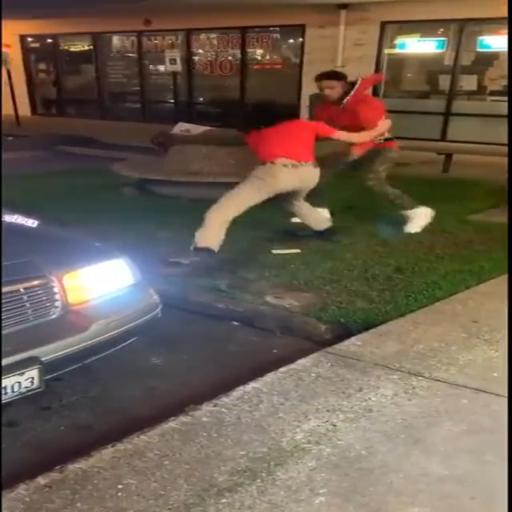violencia: (159, 52, 437, 270)
